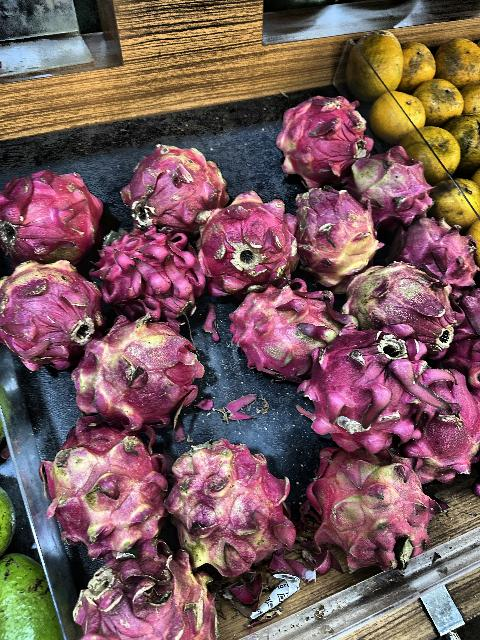buah-naga-belum-matang: (308, 446, 431, 572), (70, 316, 206, 426), (39, 421, 163, 541), (168, 436, 276, 564), (72, 554, 218, 640), (0, 257, 96, 369), (345, 267, 455, 353), (236, 274, 336, 362), (194, 198, 294, 280), (114, 136, 218, 214), (288, 181, 374, 269), (346, 146, 434, 224), (396, 212, 480, 292)
buah-naga-matang: (295, 328, 411, 434), (93, 224, 197, 314), (1, 166, 104, 256), (412, 368, 480, 482), (275, 90, 365, 174), (452, 298, 480, 376)
